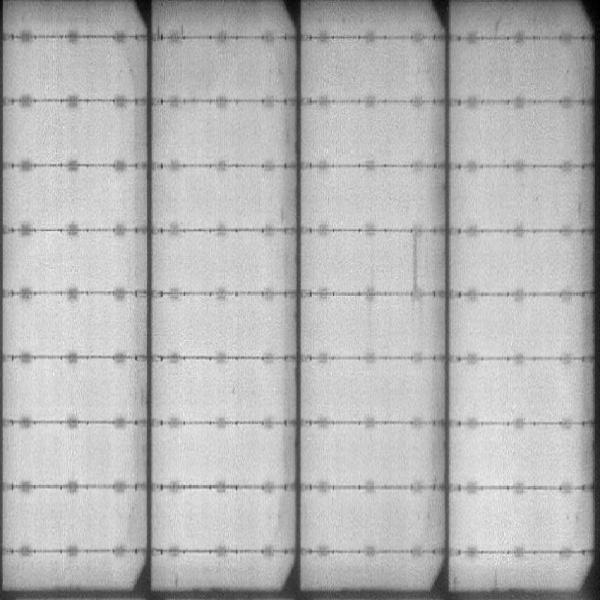scratch: (406, 232, 424, 285)
